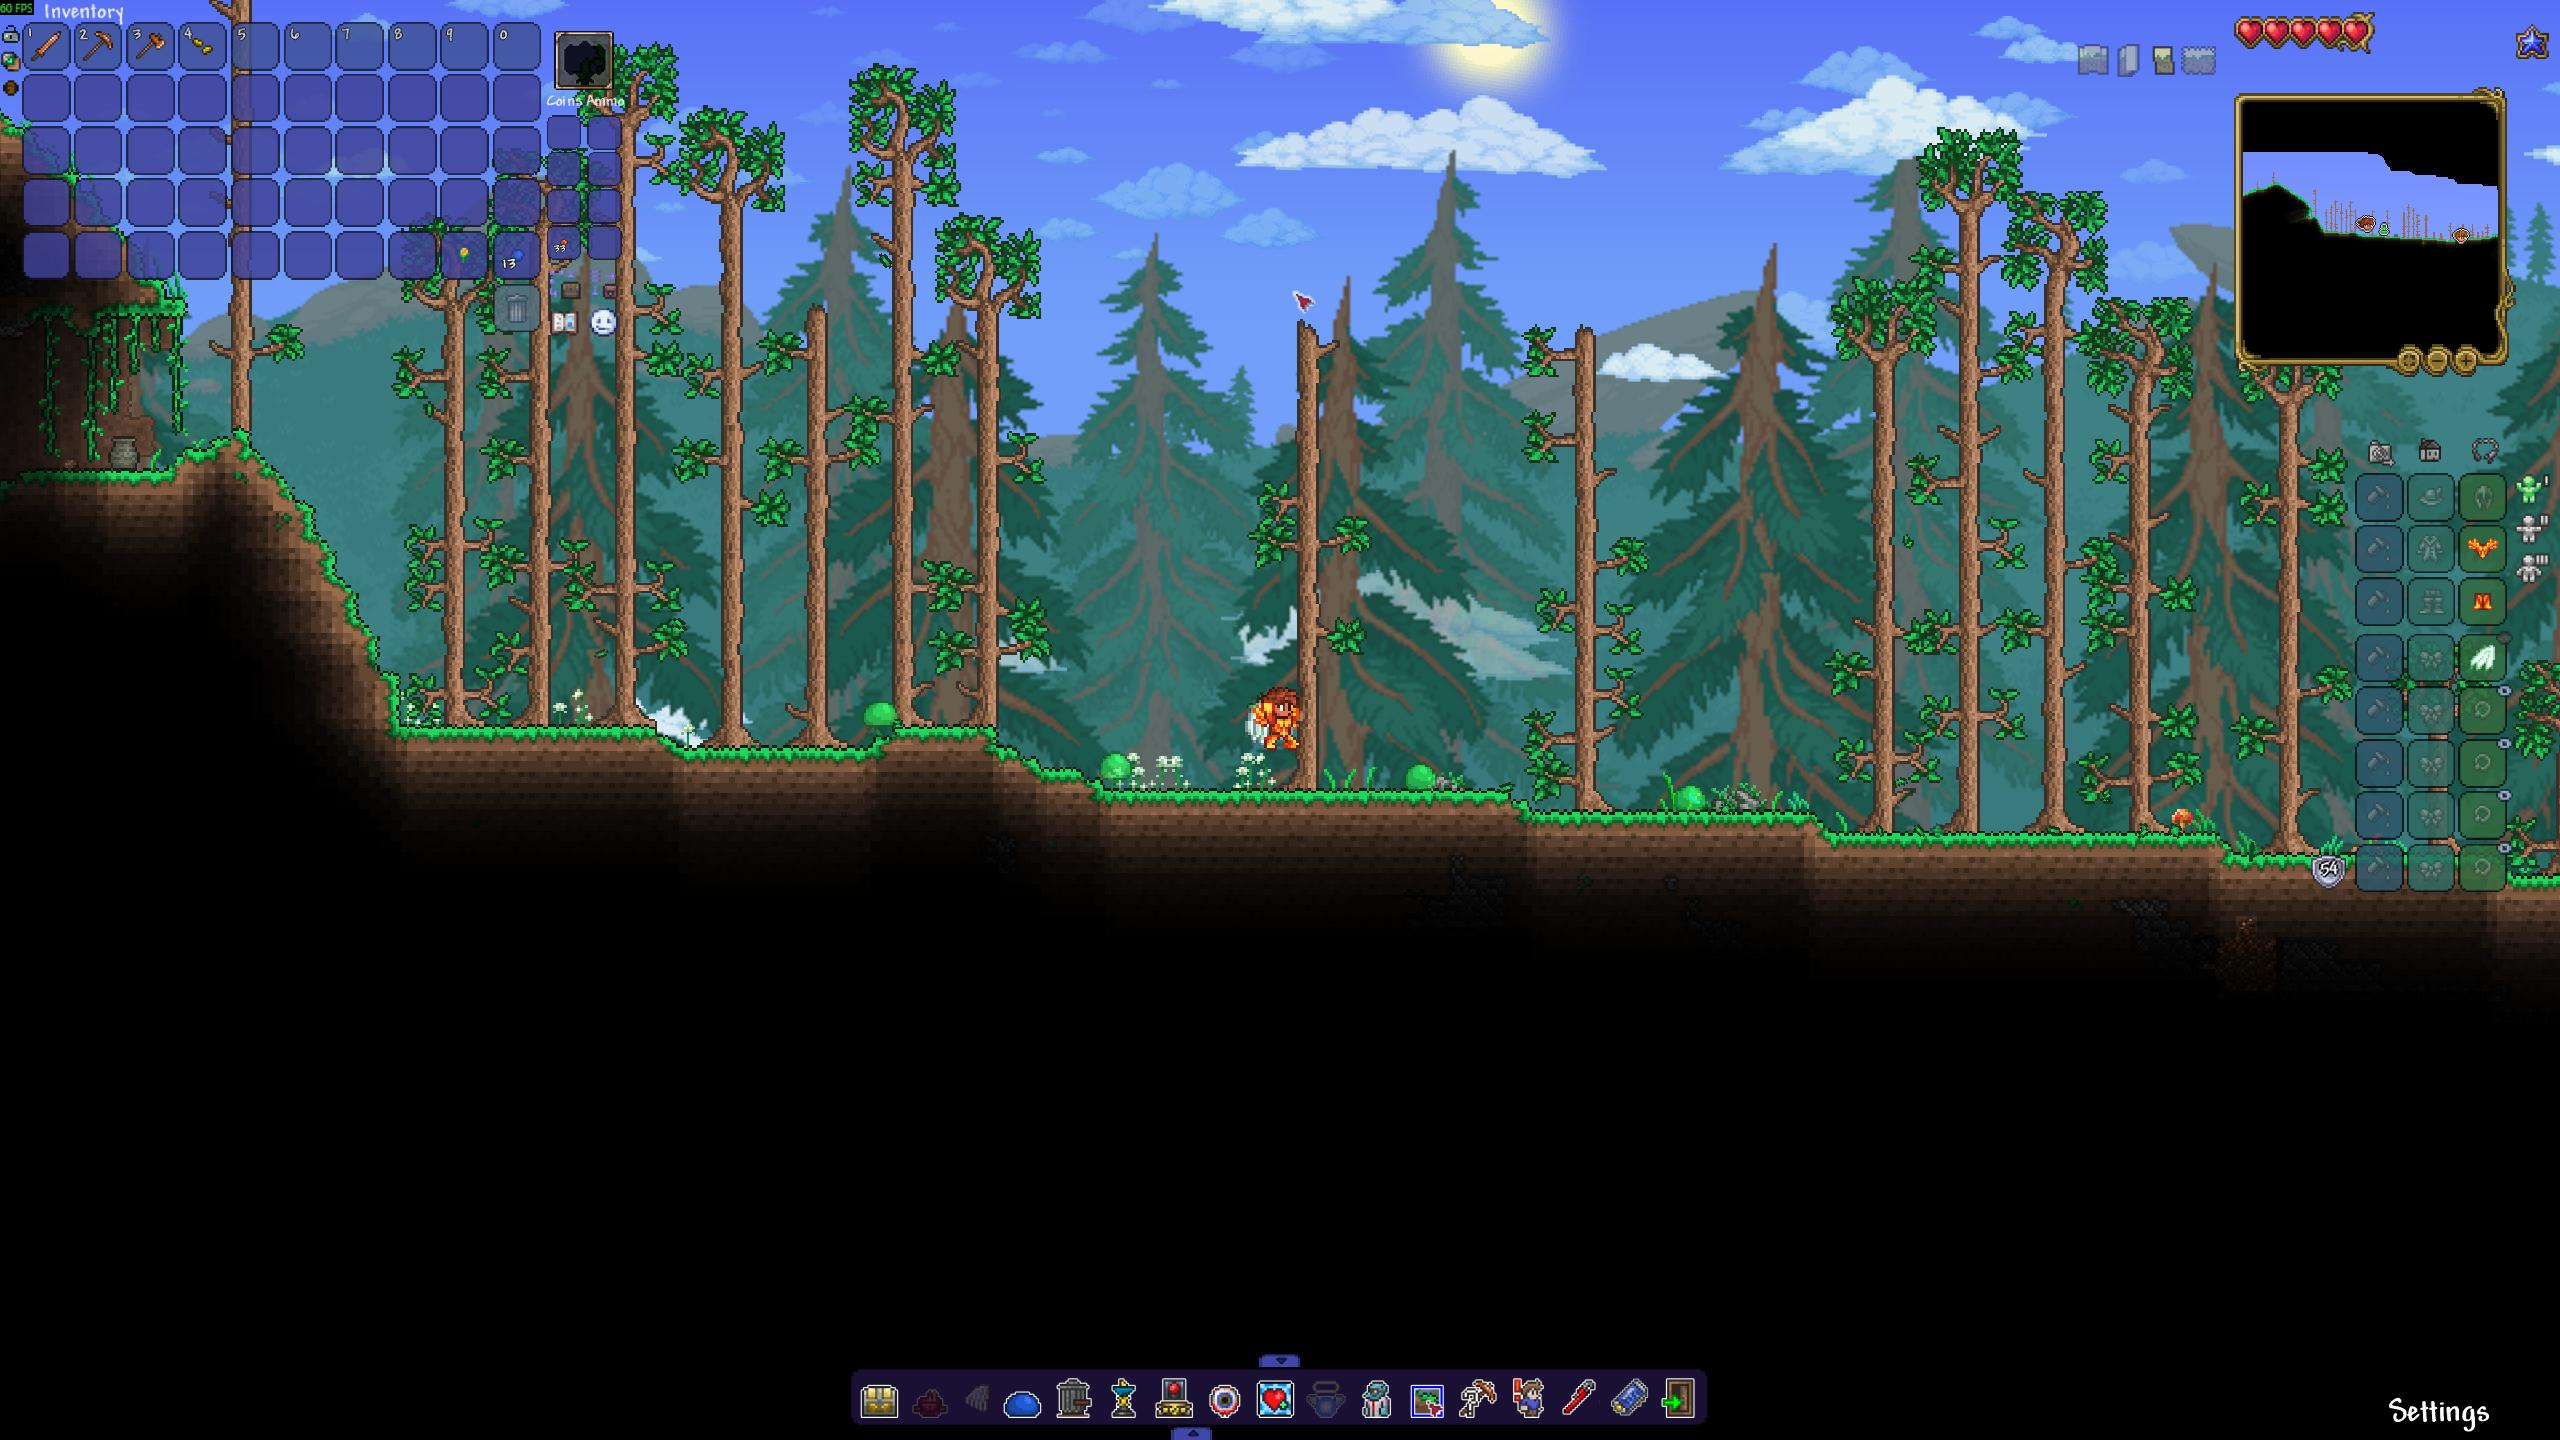Green Slime: (858, 698, 900, 728), (1405, 761, 1436, 793), (1672, 784, 1705, 814), (1099, 753, 1132, 781)
